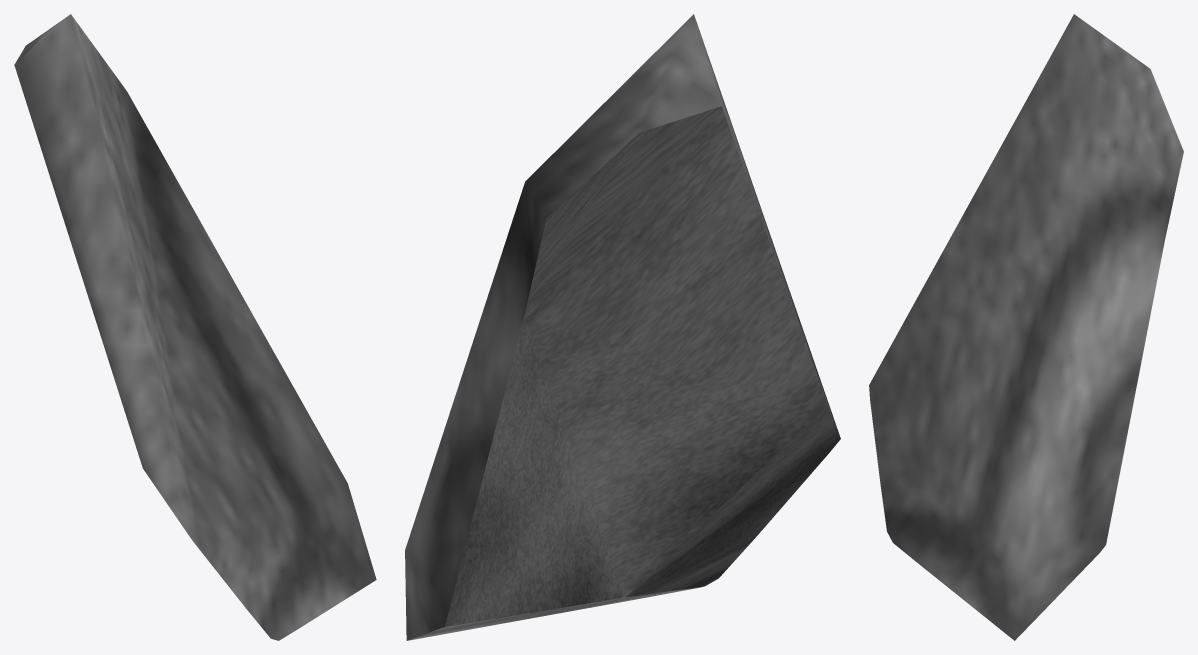
Rendered from tail_cell_021.fbx.
3 views of the same model, side by side, from view 1: azimuth 30°, elevation 25°; view 2: azimuth 150°, elevation 25°; view 3: azimuth 270°, elevation 25° (orthographic). The views are drawn at different scales.
Visible parts, largest first — view 1: tail_cell.021; view 2: tail_cell.021; view 3: tail_cell.021.
Part boxes in pixels (box(x1,y1,x2,y2)): tail_cell.021: box(14, 14, 376, 640); tail_cell.021: box(405, 14, 840, 640); tail_cell.021: box(869, 14, 1183, 640).
Size of the model in its own units: 27.74 by 51.75 by 28.69.
